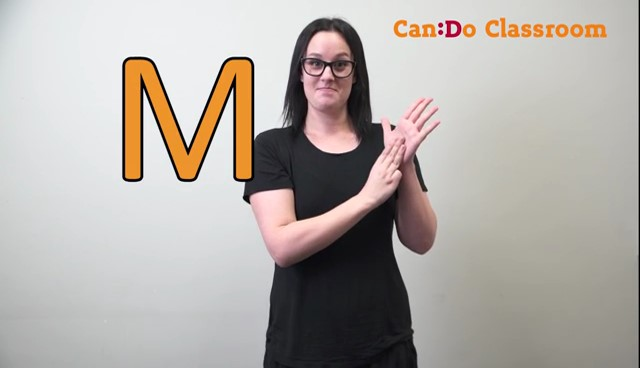M: (355, 90, 449, 214)
